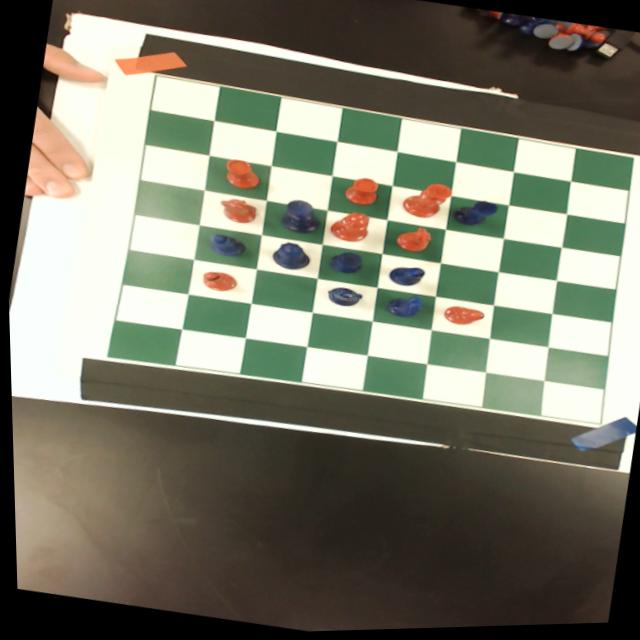B: (203, 231, 246, 261), (382, 264, 425, 292)
K: (271, 196, 321, 238)
N: (379, 291, 427, 325), (318, 284, 363, 312)
Q: (265, 239, 311, 276)
R: (446, 197, 497, 234), (321, 248, 365, 280)
b: (438, 305, 484, 332), (195, 269, 239, 297)
k: (395, 179, 452, 226)
n: (209, 194, 260, 229), (389, 224, 434, 258)
q: (323, 208, 371, 248)
r: (219, 157, 263, 194), (340, 176, 379, 210)
